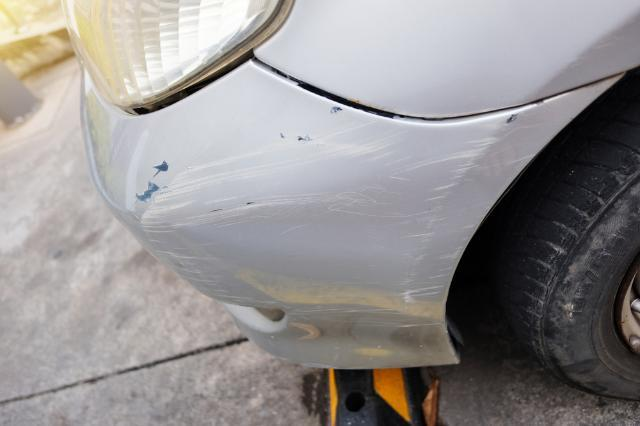scratch: (136, 109, 541, 332)
